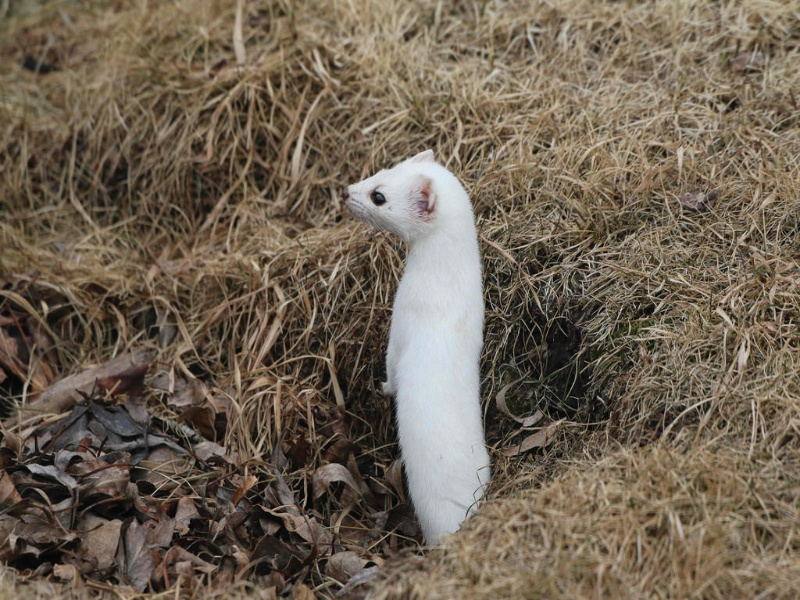minkish: (340, 148, 509, 563)
